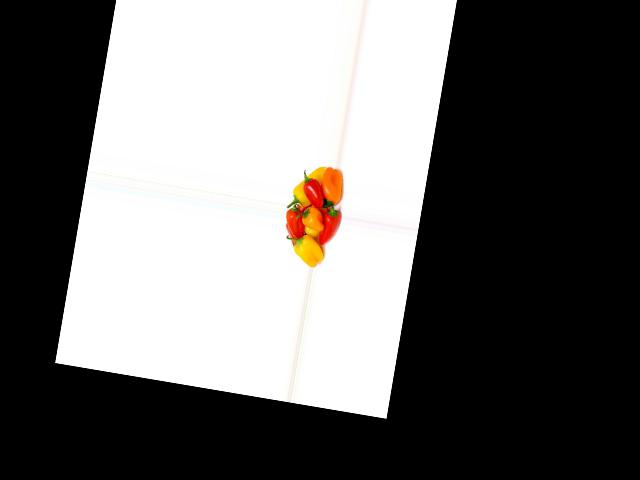bell_pepper: (288, 162, 325, 209)
